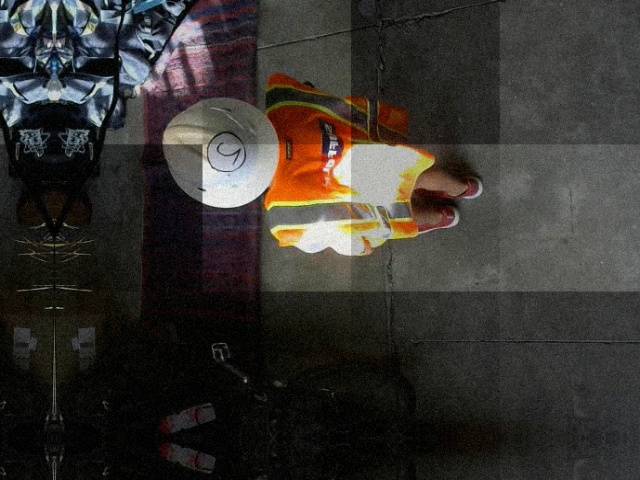two: (206, 131, 244, 171)
